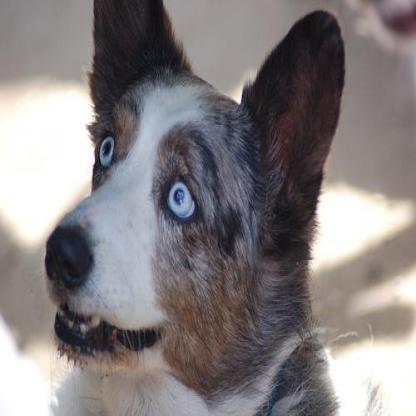Cardigan: (40, 0, 387, 412)
